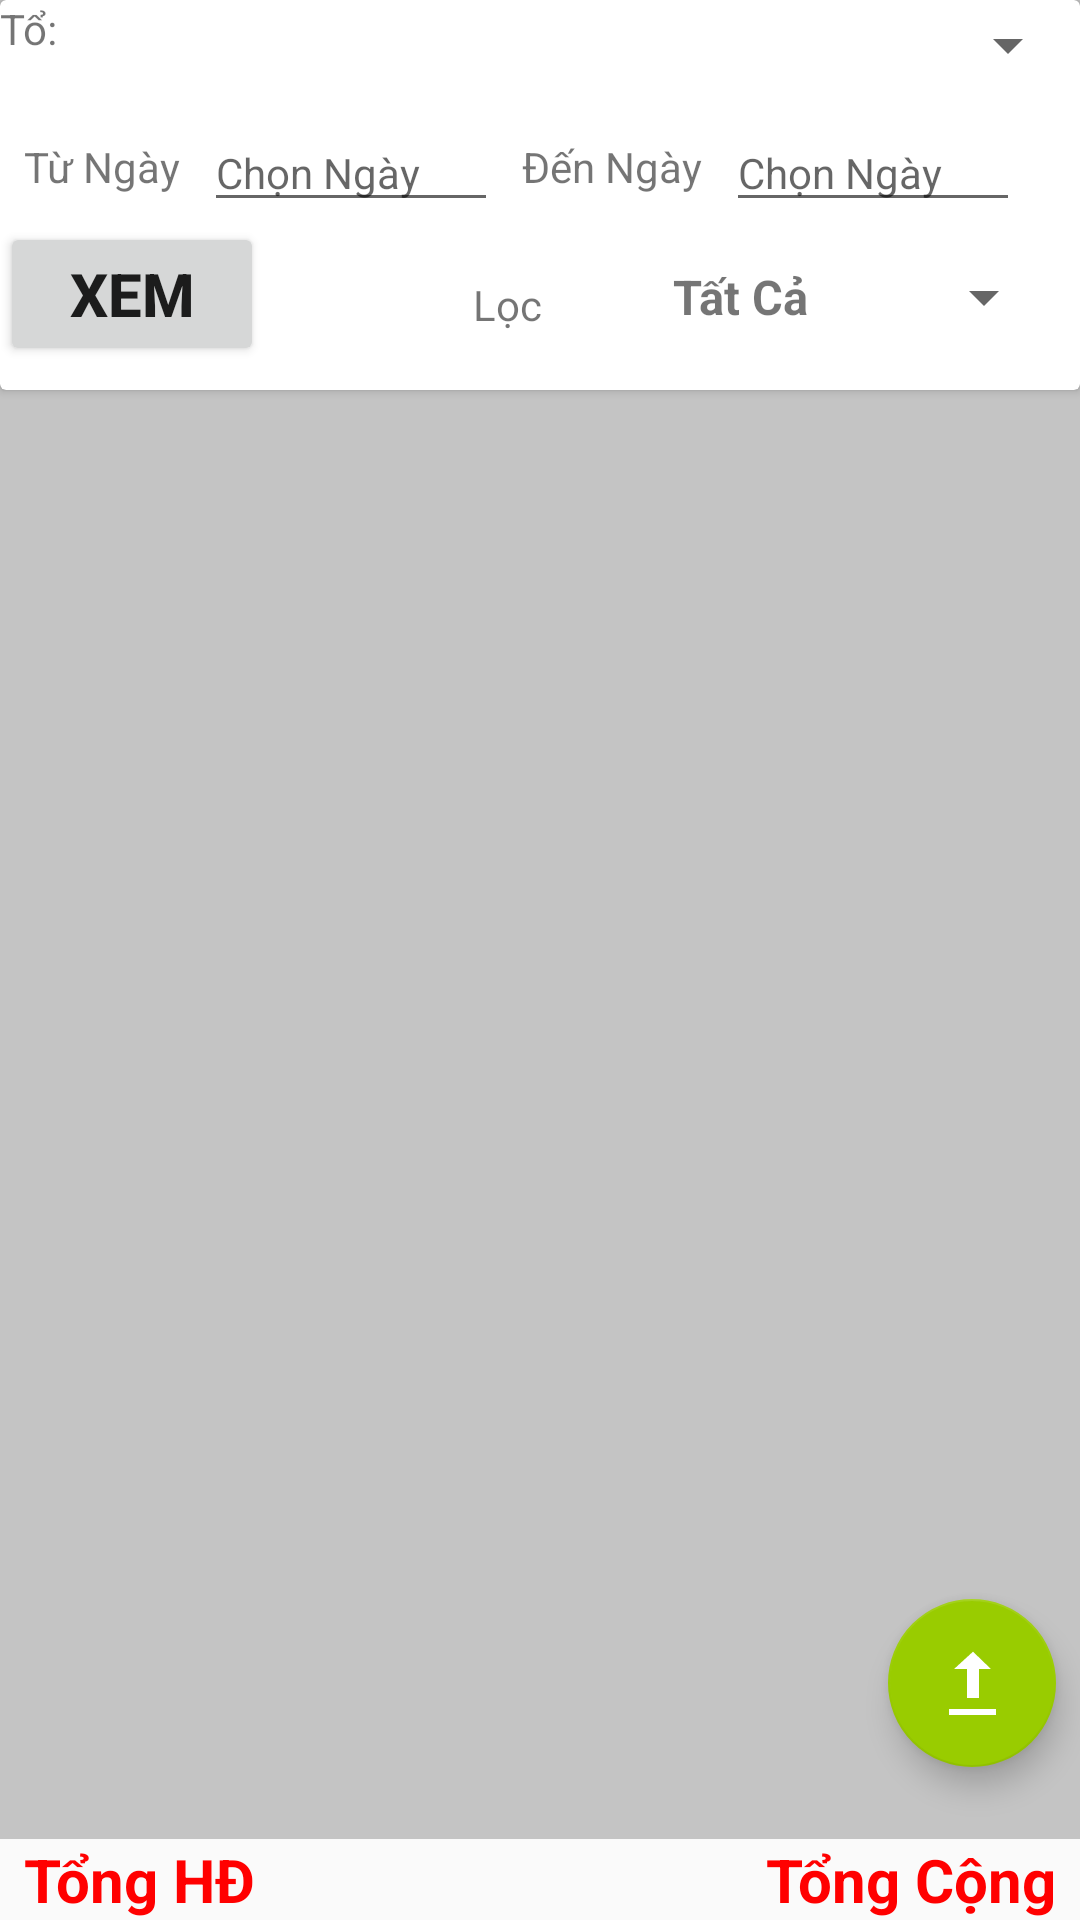

Named icons in this screenshot (1080 × 1920) and their bounding boxes, {"left": x1, "top": y1, "right": x2, "bottom": y2}:
upload: {"left": 888, "top": 1599, "right": 1056, "bottom": 1767}
